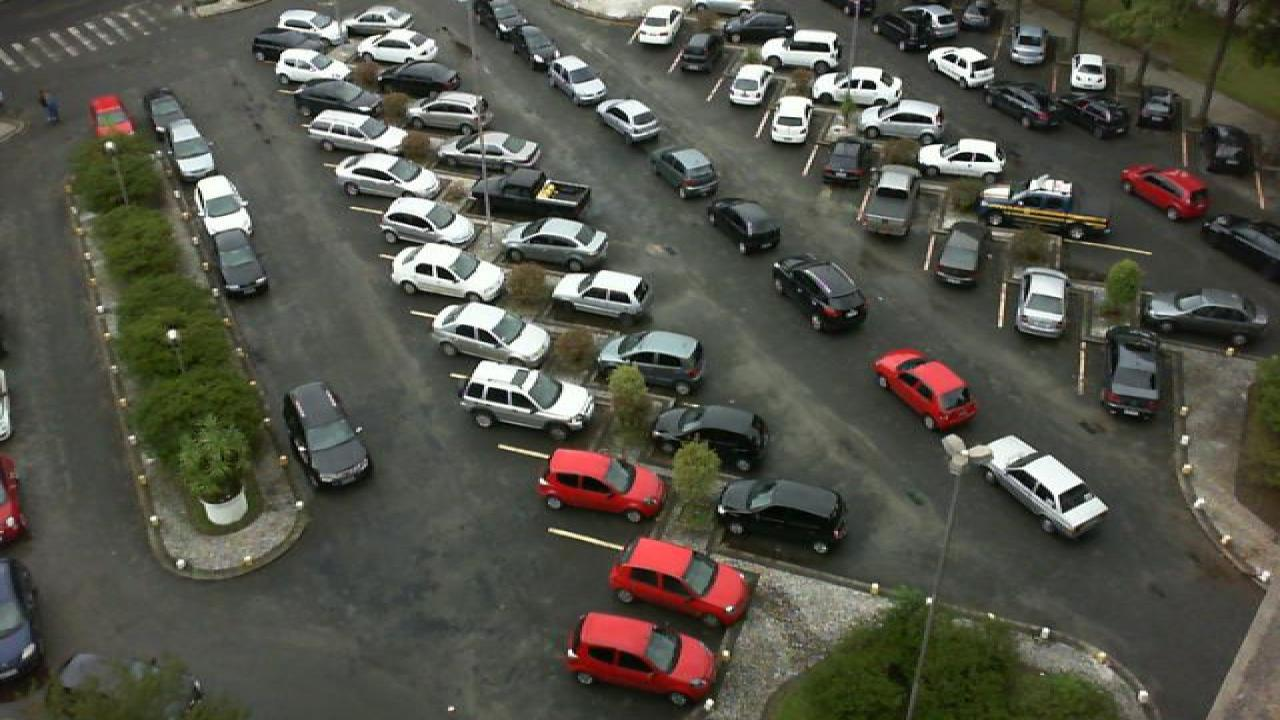Car: (566, 612, 720, 709), (980, 432, 1110, 540), (610, 536, 754, 626), (458, 361, 600, 439), (712, 477, 850, 556), (536, 446, 668, 526), (280, 380, 374, 490), (978, 173, 1112, 244), (646, 402, 770, 476), (872, 346, 978, 432), (430, 300, 554, 368), (770, 254, 872, 333), (1140, 289, 1272, 349), (594, 330, 708, 398), (390, 240, 508, 304), (1100, 326, 1170, 423), (468, 173, 592, 225), (550, 268, 656, 327), (504, 216, 612, 273), (1114, 163, 1214, 221), (376, 195, 480, 250), (1200, 214, 1280, 281), (336, 152, 442, 201), (434, 130, 542, 176), (856, 166, 922, 238), (872, 3, 964, 54), (302, 110, 408, 154), (208, 226, 272, 298), (702, 197, 782, 254), (1014, 266, 1072, 338), (810, 64, 904, 108), (192, 173, 254, 238), (976, 82, 1064, 127), (758, 30, 844, 76), (1062, 91, 1142, 140), (648, 146, 720, 199), (918, 137, 1008, 179), (410, 91, 492, 137), (376, 60, 462, 103), (860, 98, 946, 140), (290, 80, 384, 118), (934, 219, 986, 284), (274, 48, 358, 88), (164, 122, 222, 178), (926, 44, 998, 88), (142, 89, 200, 143), (594, 98, 664, 142), (1176, 97, 1240, 145), (356, 30, 438, 66), (86, 92, 140, 144), (716, 9, 796, 44), (252, 29, 330, 64), (820, 137, 870, 190), (628, 3, 686, 48), (546, 60, 606, 102), (768, 93, 814, 143), (672, 29, 722, 73), (348, 4, 416, 34), (726, 62, 770, 107), (276, 8, 344, 37), (512, 32, 560, 70), (1006, 24, 1048, 65), (1068, 53, 1108, 93), (488, 11, 526, 46)
